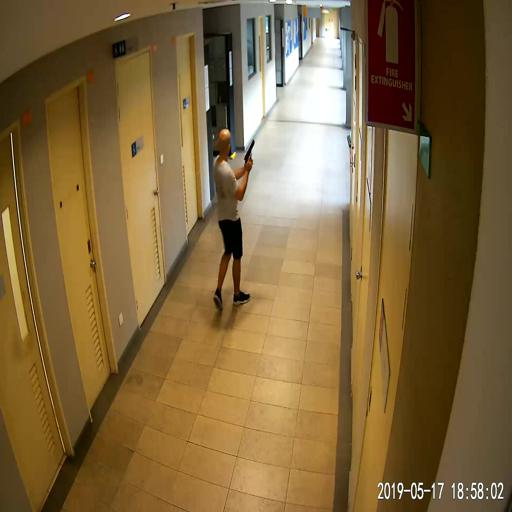pistol: (244, 140, 254, 165)
